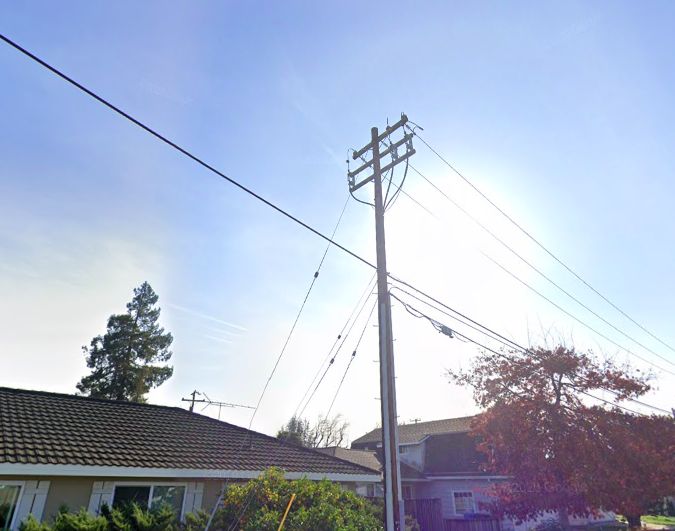utility_pole: (340, 107, 419, 207)
